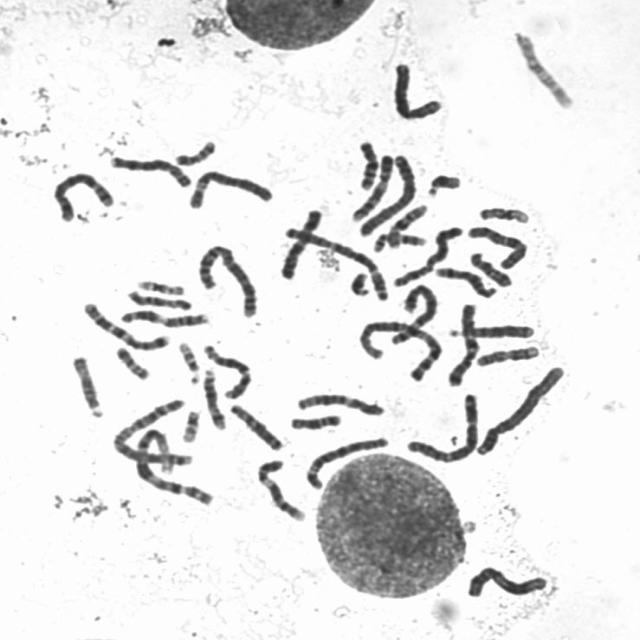A1: (132, 427, 215, 508), (354, 319, 444, 383)
A2: (111, 398, 194, 467), (195, 243, 258, 320)
A3: (282, 226, 390, 302), (403, 393, 479, 464)
B4: (474, 363, 566, 457), (356, 154, 417, 237)
B5: (50, 171, 117, 223), (388, 284, 441, 345)
C10: (510, 31, 576, 110), (466, 224, 529, 271)
C11: (466, 566, 551, 600), (118, 309, 211, 330)
C12: (202, 343, 255, 400), (297, 393, 385, 416)
C6: (304, 436, 390, 492), (187, 170, 274, 210)
C7: (83, 301, 172, 352), (444, 303, 479, 388)
C8: (390, 61, 442, 122), (108, 156, 193, 188)
C9: (350, 152, 396, 224), (258, 457, 308, 522)
D13: (229, 402, 286, 452), (447, 324, 536, 339)
D14: (433, 265, 498, 299), (203, 368, 227, 431)
D15: (70, 353, 106, 419), (126, 290, 193, 311)
E16: (386, 202, 429, 251), (355, 140, 380, 191)
E17: (474, 345, 540, 369), (372, 232, 429, 254)
E18: (470, 252, 516, 288), (287, 413, 344, 432)
F19: (478, 206, 532, 224), (135, 279, 186, 297)
F20: (115, 345, 152, 383), (174, 140, 217, 166)
G21: (424, 172, 465, 197), (342, 269, 372, 298)
G22: (178, 340, 202, 385), (183, 409, 202, 444)
X: (392, 225, 462, 288), (277, 206, 323, 282)
